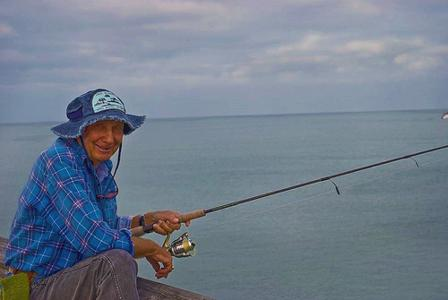person: (5, 90, 192, 299)
